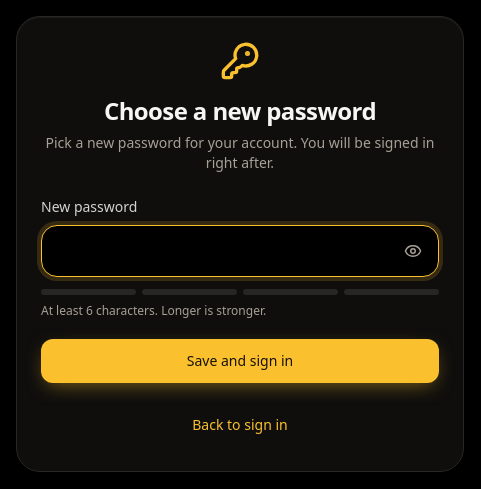
Test case: an expired reset link says so and points back to sign in
Type "secret12" into the password field labelled "New password" at (240, 251), box [41,225,439,277]
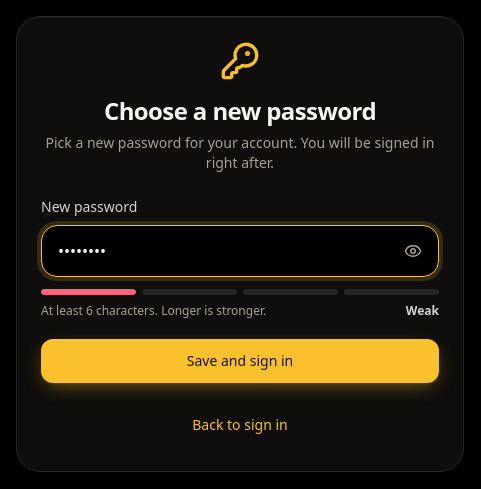
Click the button "Save and sign in" at (240, 361), box [41,339,439,383]
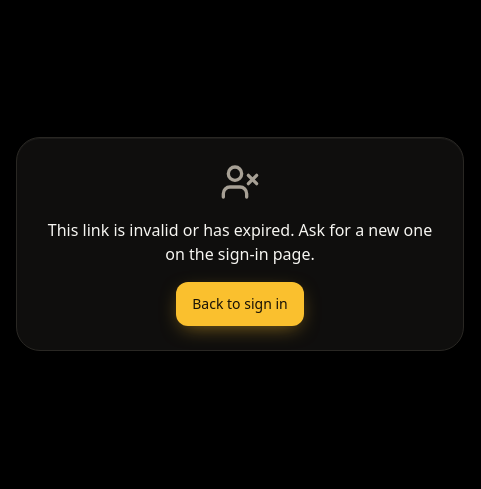
Expected: the text "This link is invalid or has expired. Ask for a new one on the sign-in page." is shown, [41,218,439,266]
